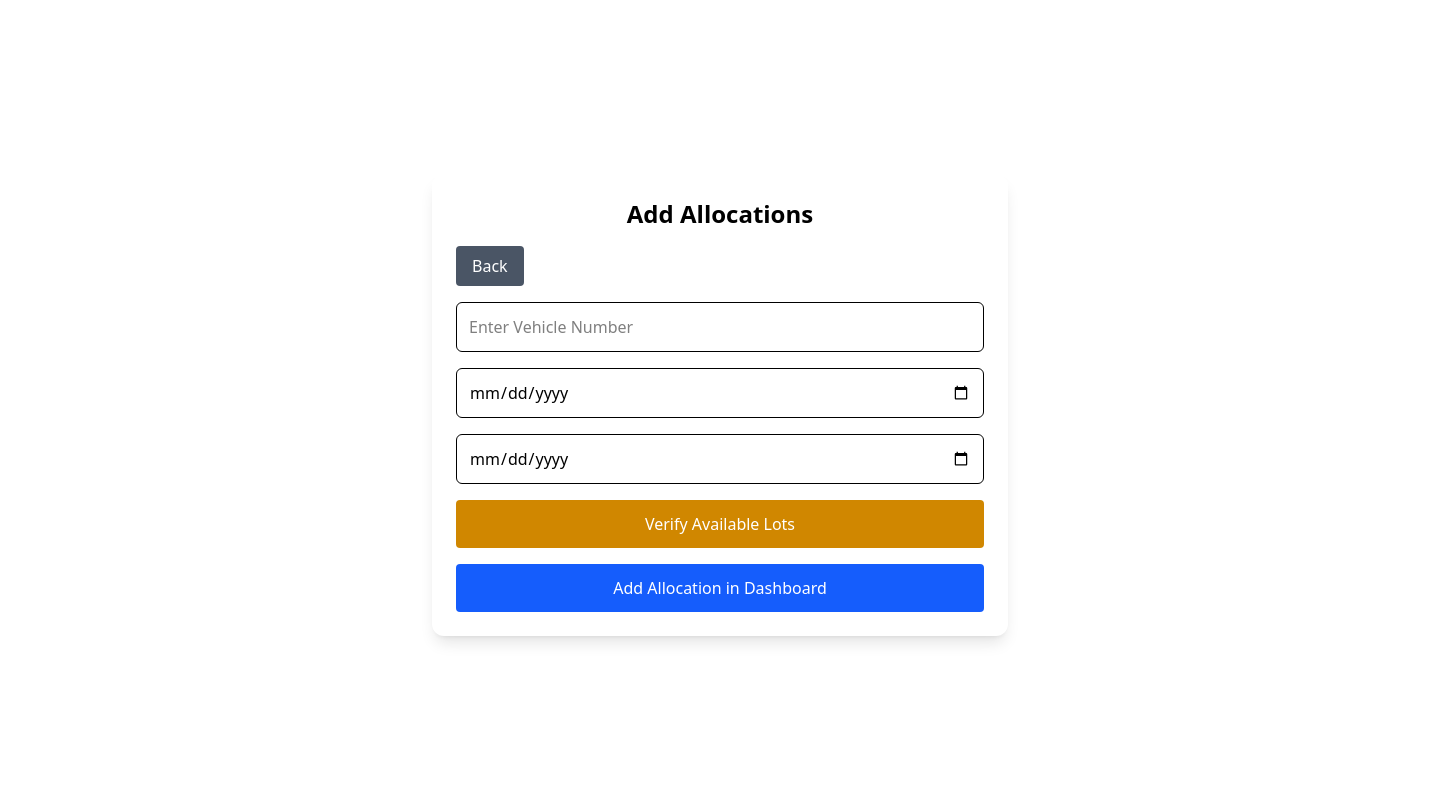
Test: AddAllocationForm › fetches available lots and displays them
This screenshot has width=1440, height=810.
Type "2025-08-01" into the 1st date field named "allocated from date" at (720, 393), box left=456, top=368, right=984, bottom=418
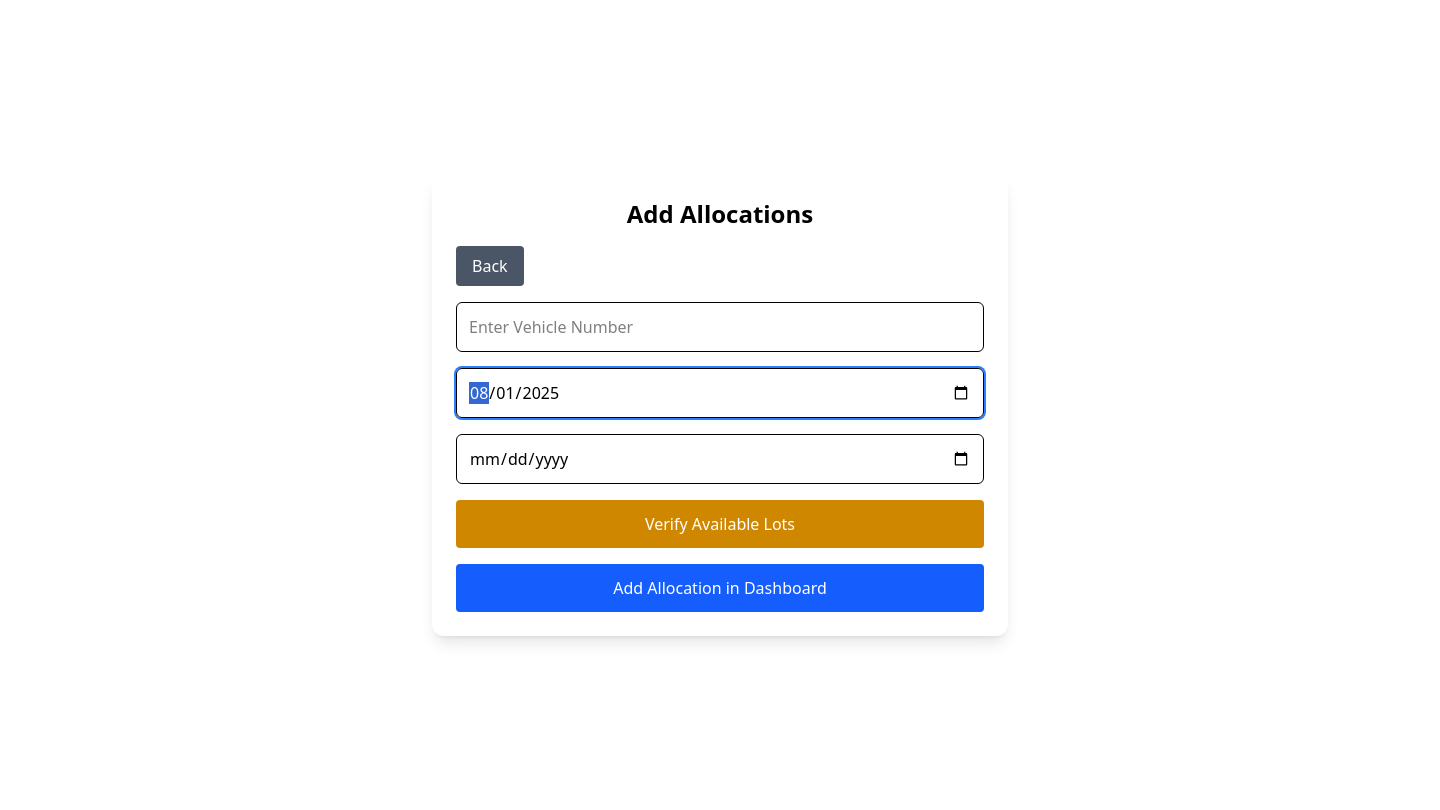
Type "2025-08-10" into the 2nd date field named "allocated upto date" at (720, 459), box left=456, top=434, right=984, bottom=484
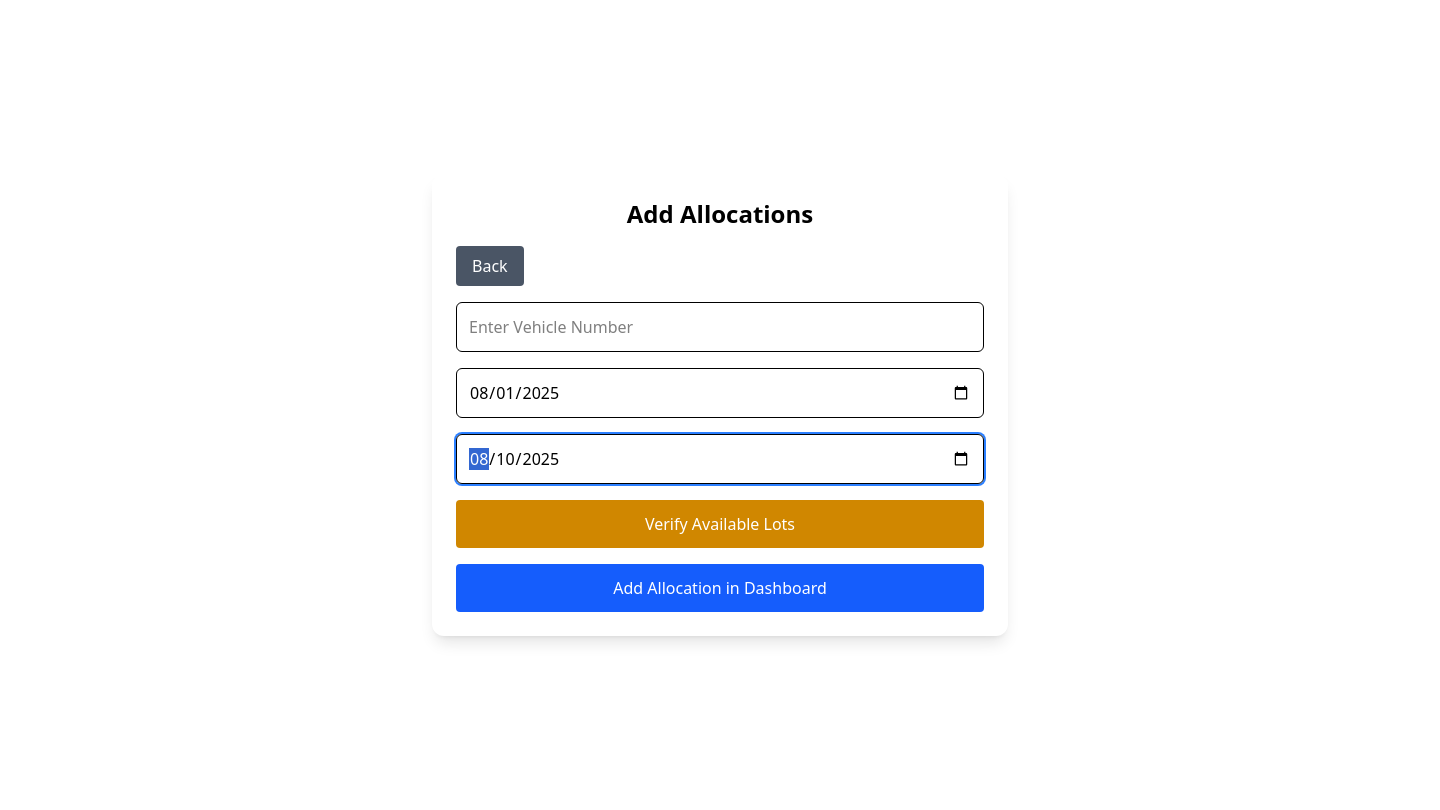
Click the button "Verify Available Lots" at (720, 524), box left=456, top=500, right=984, bottom=548
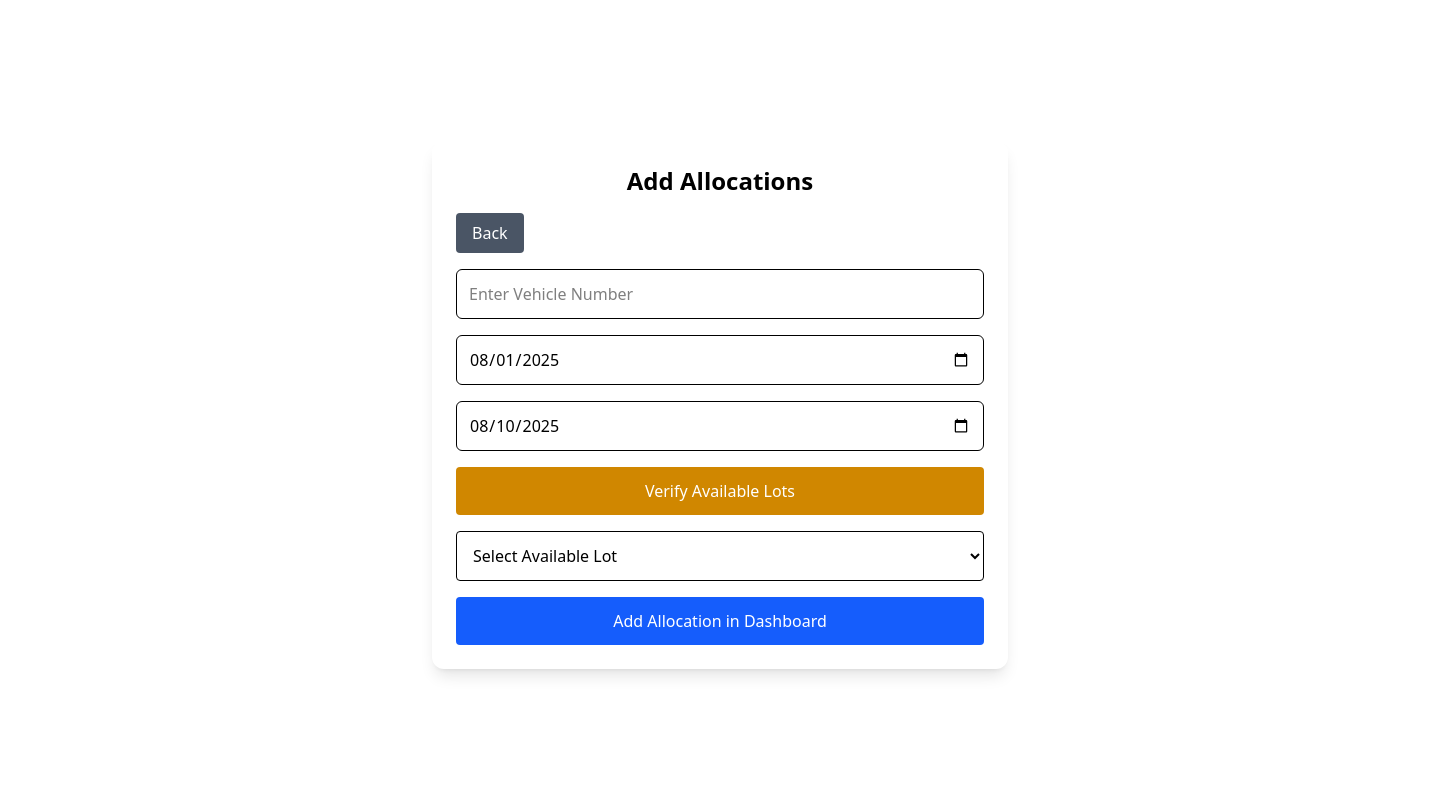
Expected: the dropdown is shown, left=456, top=531, right=984, bottom=581
